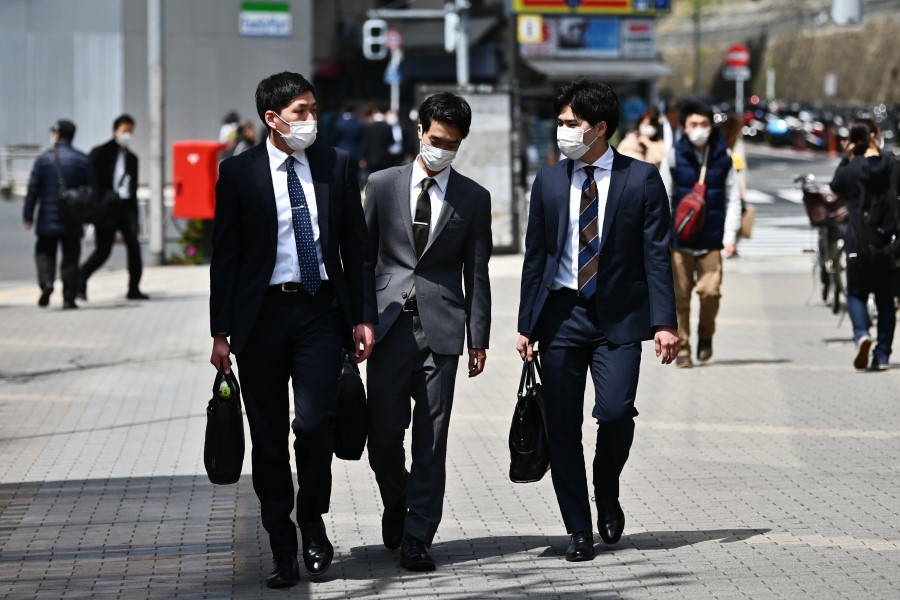person: (505, 70, 700, 566), (191, 66, 372, 589), (355, 81, 499, 579), (819, 109, 900, 384), (667, 107, 744, 376), (18, 110, 101, 313), (83, 101, 164, 309), (623, 111, 671, 155)
